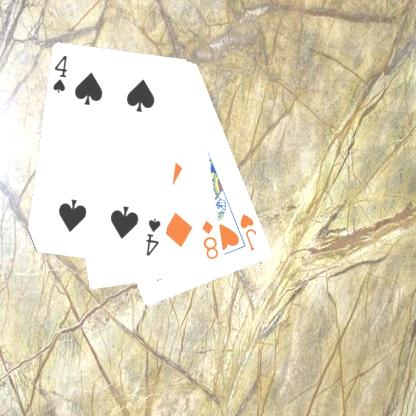4S: (143, 216, 163, 258), (50, 52, 69, 95)
8D: (200, 218, 220, 261)
JH: (237, 211, 258, 252)
